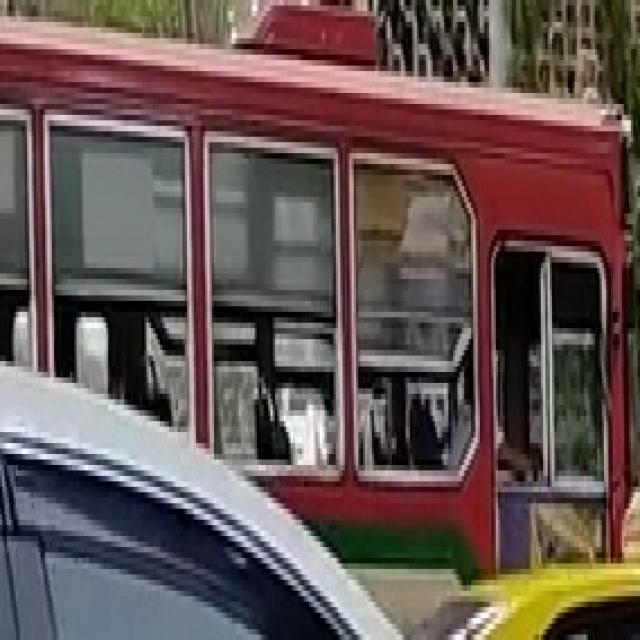door: (0, 5, 631, 580), (491, 230, 611, 569)
